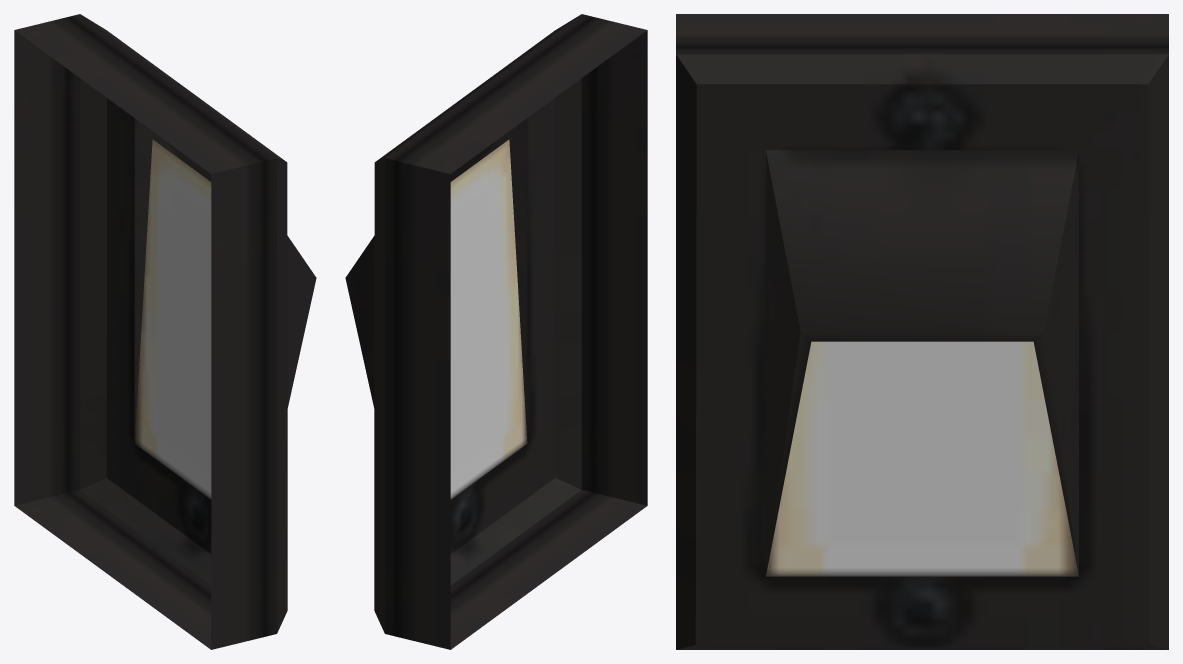
The model's file is light_outdoorwall04_on_lod0.glb.
3 renders of one model, left to right at view 1: azimuth 30°, elevation 25°; view 2: azimuth 150°, elevation 25°; view 3: azimuth 270°, elevation 25°, orthographic. The views are drawn at different scales.
Visible parts, largest first — view 1: surf0, surf1; view 2: surf0, surf1; view 3: surf0, surf1.
Boxes of the visible parts, x1=… form: surf0: x1=14, y1=14, x2=316, y2=649; surf1: x1=134, y1=139, x2=211, y2=499; surf0: x1=345, y1=14, x2=647, y2=649; surf1: x1=450, y1=139, x2=527, y2=499; surf0: x1=676, y1=14, x2=1168, y2=649; surf1: x1=766, y1=341, x2=1078, y2=576.
Bounding box in the file's own units: 1.36 × 4 × 3.
